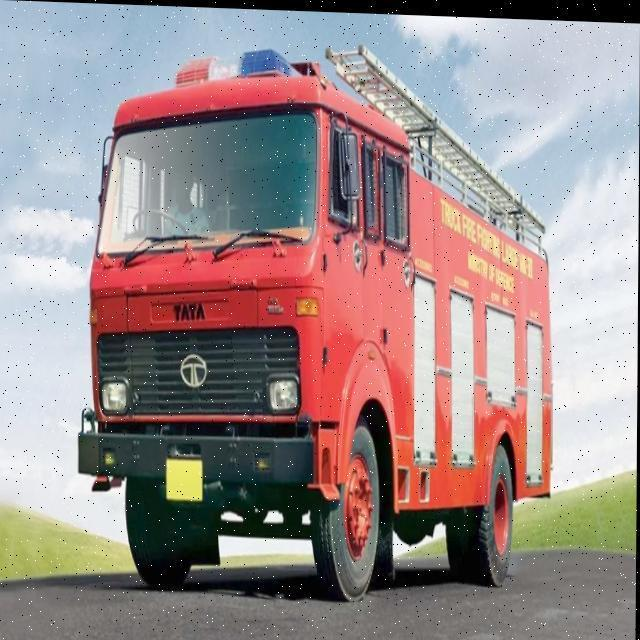Ambulance: (74, 30, 560, 610), (0, 522, 635, 640), (161, 168, 213, 242)
